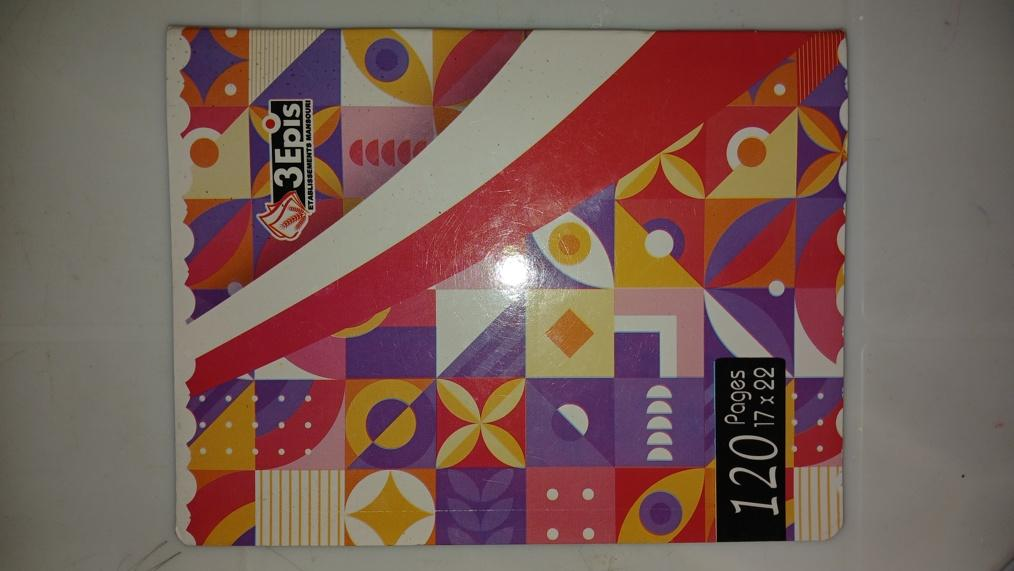notebook: (179, 28, 845, 545)
